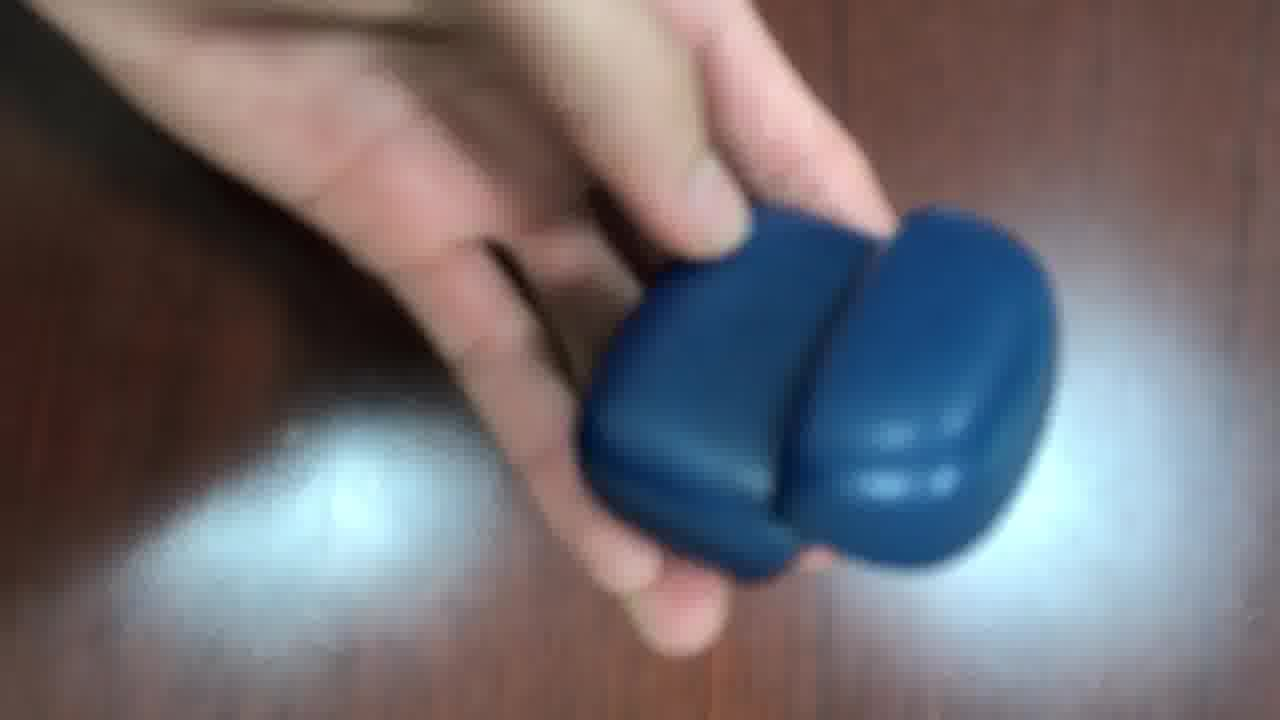Case: (578, 205, 1056, 580)
